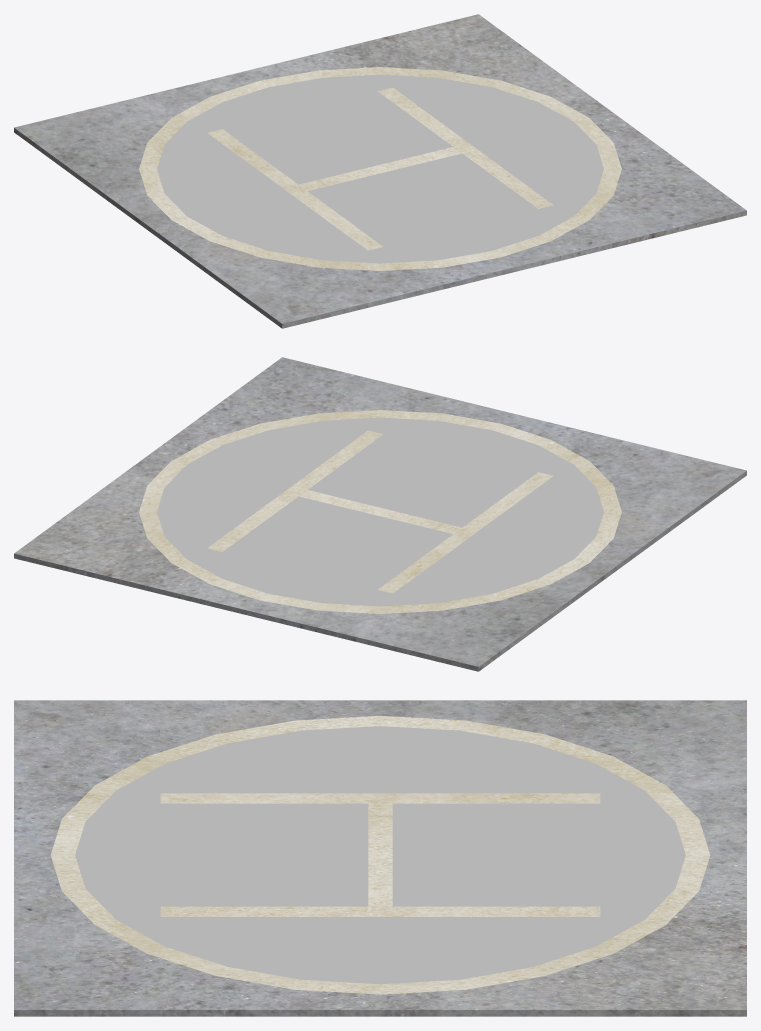
The model's file is eliporto.fbx.
The picture shows the model from 3 angles, top to bottom: view 1: azimuth 30°, elevation 25°; view 2: azimuth 150°, elevation 25°; view 3: azimuth 270°, elevation 25°; orthographic projection. The views are drawn at different scales.
Visible parts, largest first — view 1: Componente_1_1; view 2: Componente_1_1; view 3: Componente_1_1.
Boxes of the visible parts, <box> form: Componente_1_1: <box>14,14,746,328</box>; Componente_1_1: <box>14,357,746,671</box>; Componente_1_1: <box>14,700,746,1016</box>.
Bounding box in the file's own units: 30 × 0.3 × 30.
